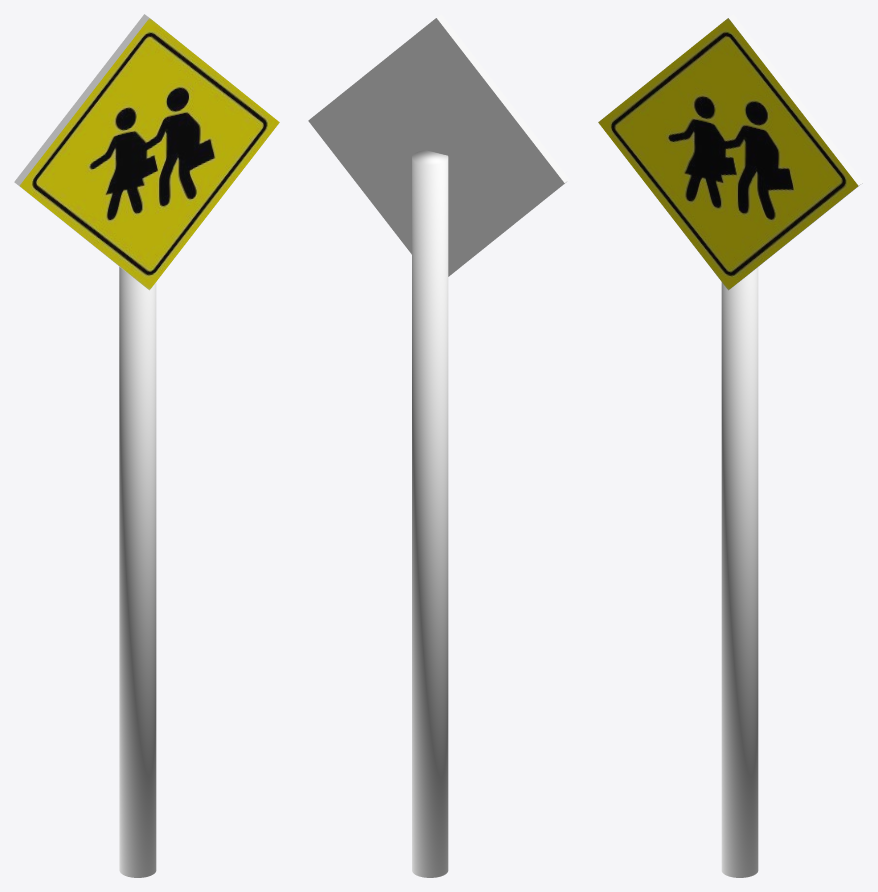
The model's file is COLEGIO.fbx.
3 views of the same model, side by side, from view 1: azimuth 30°, elevation 25°; view 2: azimuth 150°, elevation 25°; view 3: azimuth 330°, elevation 25° (orthographic).
Visible parts, largest first — view 1: Cylinder.026; view 2: Cylinder.026; view 3: Cylinder.026.
Part boxes in pixels (box(x1,y1,x2,y2)): Cylinder.026: box(14, 14, 279, 877); Cylinder.026: box(308, 14, 569, 877); Cylinder.026: box(598, 14, 863, 877).
Size of the model in its own units: 81.45 by 257 by 11.32.
Materials: 2 (2 with a texture image).
